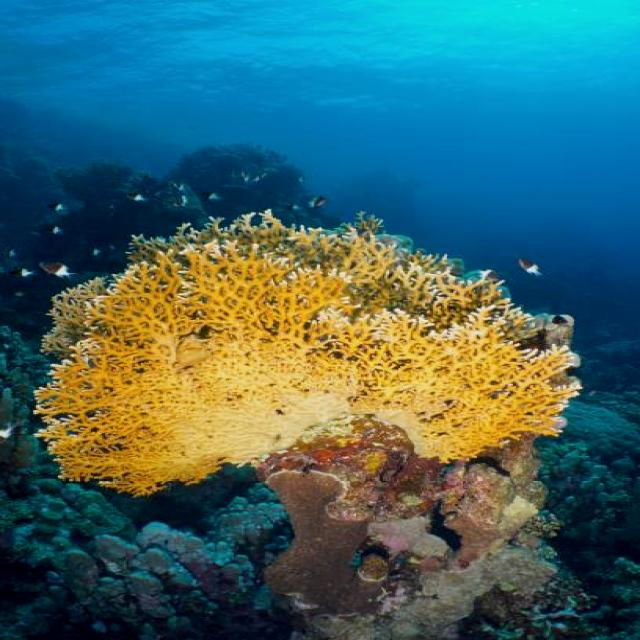Coral: (32, 208, 583, 498)
